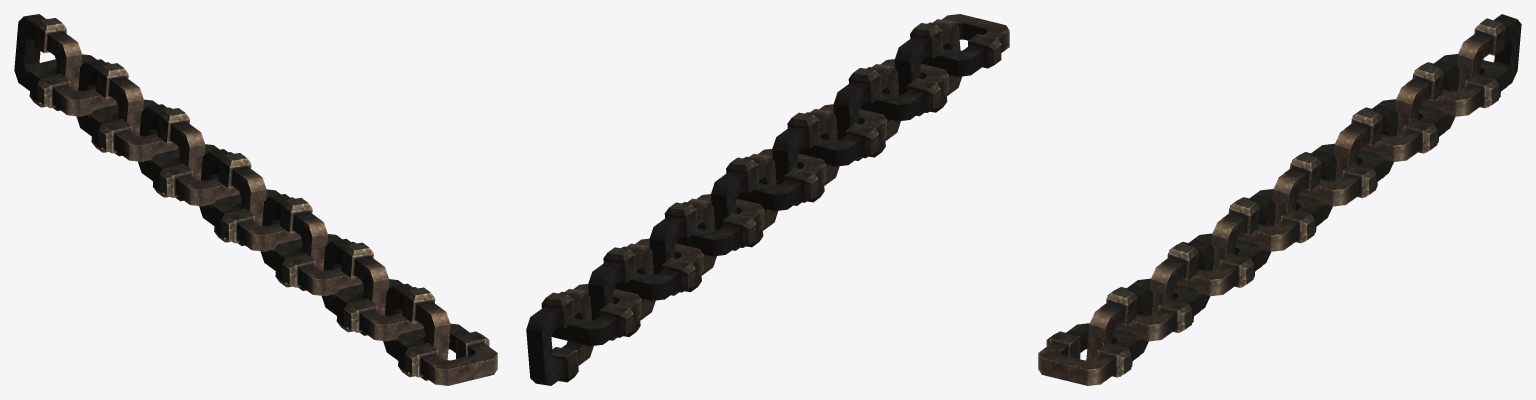
The model's file is shejie_dongxue_373_lianzi_01.obj.
The picture shows the model from 3 angles, left to right: view 1: azimuth 30°, elevation 25°; view 2: azimuth 150°, elevation 25°; view 3: azimuth 330°, elevation 25°; orthographic projection.
Visible parts, largest first — view 1: shejie_dongxue_373_lianzi_01; view 2: shejie_dongxue_373_lianzi_01; view 3: shejie_dongxue_373_lianzi_01.
Boxes of the visible parts, <box> form: shejie_dongxue_373_lianzi_01: <box>14,14,497,385</box>; shejie_dongxue_373_lianzi_01: <box>526,14,1009,385</box>; shejie_dongxue_373_lianzi_01: <box>1038,14,1521,385</box>.
Size of the model in its own units: 35.96 by 36.43 by 360.
2 materials, 2 textured.
